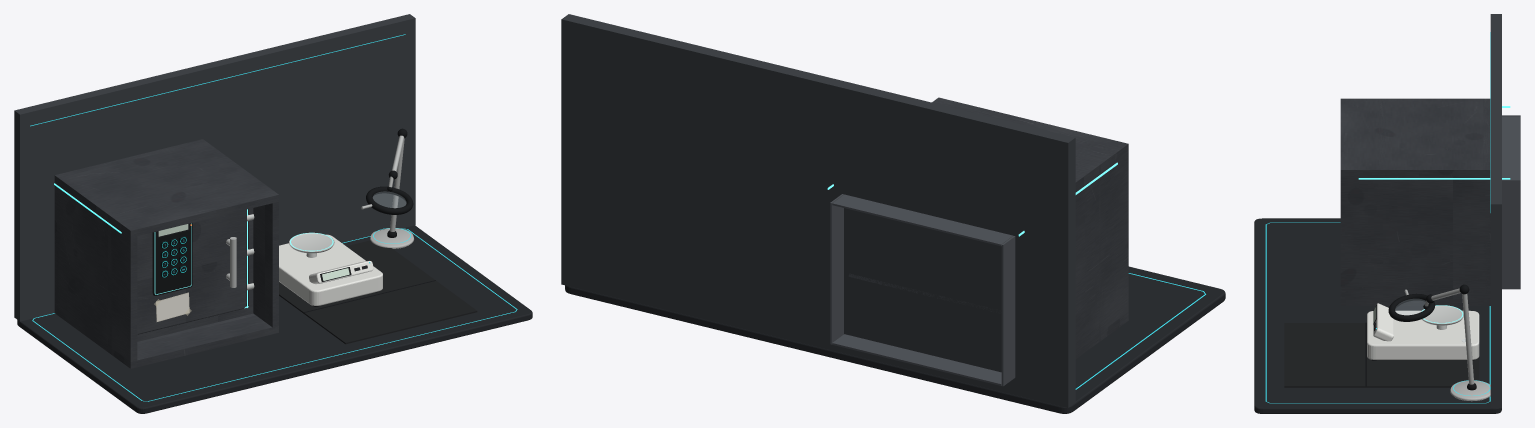
File: rec-cofre-balanca.glb
The picture shows the model from 3 angles, left to right: view 1: azimuth 30°, elevation 25°; view 2: azimuth 150°, elevation 25°; view 3: azimuth 270°, elevation 25°; orthographic projection. The views are drawn at different scales.
Parts seen in each view (by area): view 1: parede, base_peca, cofre_topo, cofre_lateral_esq, cofre_porta_folha, tapete_aba, balanca_corpo, cofre_fundo, cofre_lateral_dir, tapete_base, cofre_teclado_painel, cofre_moldura_base (+10 smaller); view 2: parede, base_peca, cofre_lateral_esq, cofre_topo, cofre_interior_teto, cofre_interior_piso, cofre_interior_esq, cofre_interior_dir; view 3: base_peca, cofre_lateral_dir, cofre_topo, tapete_aba, parede, balanca_corpo, tapete_base, cofre_interior_dir, cofre_interior_teto, cofre_fundo, base_peca_linha, lupa (+8 smaller).
Part boxes in pixels (<box>): parede: <box>14,14,415,321</box>; base_peca: <box>17,225,532,413</box>; cofre_topo: <box>58,140,278,237</box>; cofre_lateral_esq: <box>54,182,137,361</box>; cofre_porta_folha: <box>137,209,246,334</box>; tapete_aba: <box>303,281,477,344</box>; balanca_corpo: <box>279,234,382,305</box>; cofre_fundo: <box>55,309,278,368</box>; cofre_lateral_dir: <box>253,201,278,327</box>; tapete_base: <box>279,240,434,313</box>; cofre_teclado_painel: <box>152,223,192,295</box>; cofre_moldura_base: <box>108,306,253,354</box>; parede: <box>561,14,1075,407</box>; base_peca: <box>565,266,1225,413</box>; cofre_lateral_esq: <box>1075,153,1128,349</box>; cofre_topo: <box>932,97,1128,190</box>; cofre_interior_teto: <box>832,194,1012,246</box>; cofre_interior_piso: <box>832,334,1001,385</box>; cofre_interior_esq: <box>1001,236,1015,386</box>; cofre_interior_dir: <box>830,194,843,344</box>; base_peca: <box>1254,218,1501,413</box>; cofre_lateral_dir: <box>1340,176,1490,299</box>; cofre_topo: <box>1340,98,1490,176</box>; tapete_aba: <box>1284,323,1366,387</box>; parede: <box>1490,14,1501,408</box>; balanca_corpo: <box>1367,310,1479,359</box>; tapete_base: <box>1367,357,1479,387</box>; cofre_interior_dir: <box>1502,179,1520,289</box>; cofre_interior_teto: <box>1502,116,1520,179</box>; cofre_fundo: <box>1340,299,1490,305</box>; base_peca_linha: <box>1265,222,1490,403</box>; lupa: <box>1431,288,1474,384</box>.
Size of the model in its own units: 1.2 by 0.618 by 0.71.
26 materials, 2 textured.
